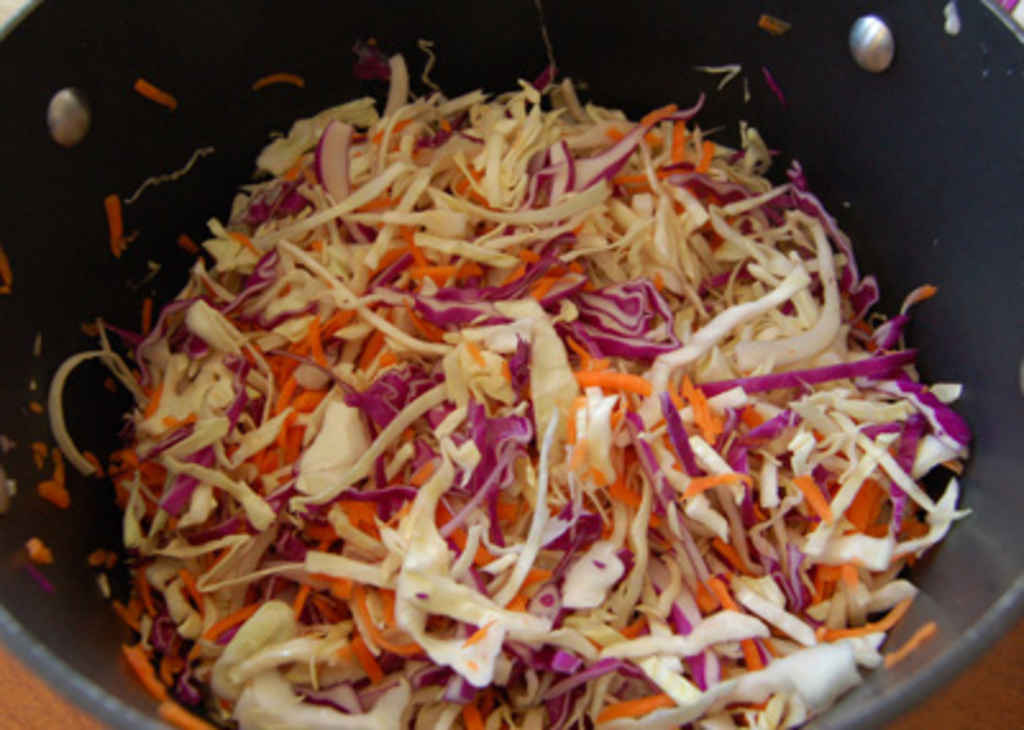Cabbage: (0, 0, 974, 730)
